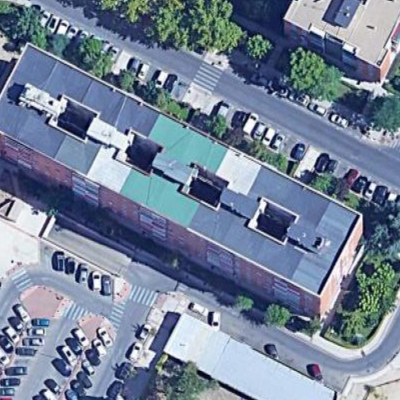tree: (290, 48, 337, 102), (197, 5, 239, 53), (356, 271, 395, 308), (155, 4, 190, 45), (370, 92, 400, 131), (338, 301, 370, 334), (82, 39, 109, 75), (265, 302, 294, 332), (248, 34, 276, 65), (124, 3, 155, 31), (211, 115, 236, 143), (152, 88, 177, 115), (231, 288, 253, 317), (27, 23, 48, 48), (118, 66, 136, 92)
